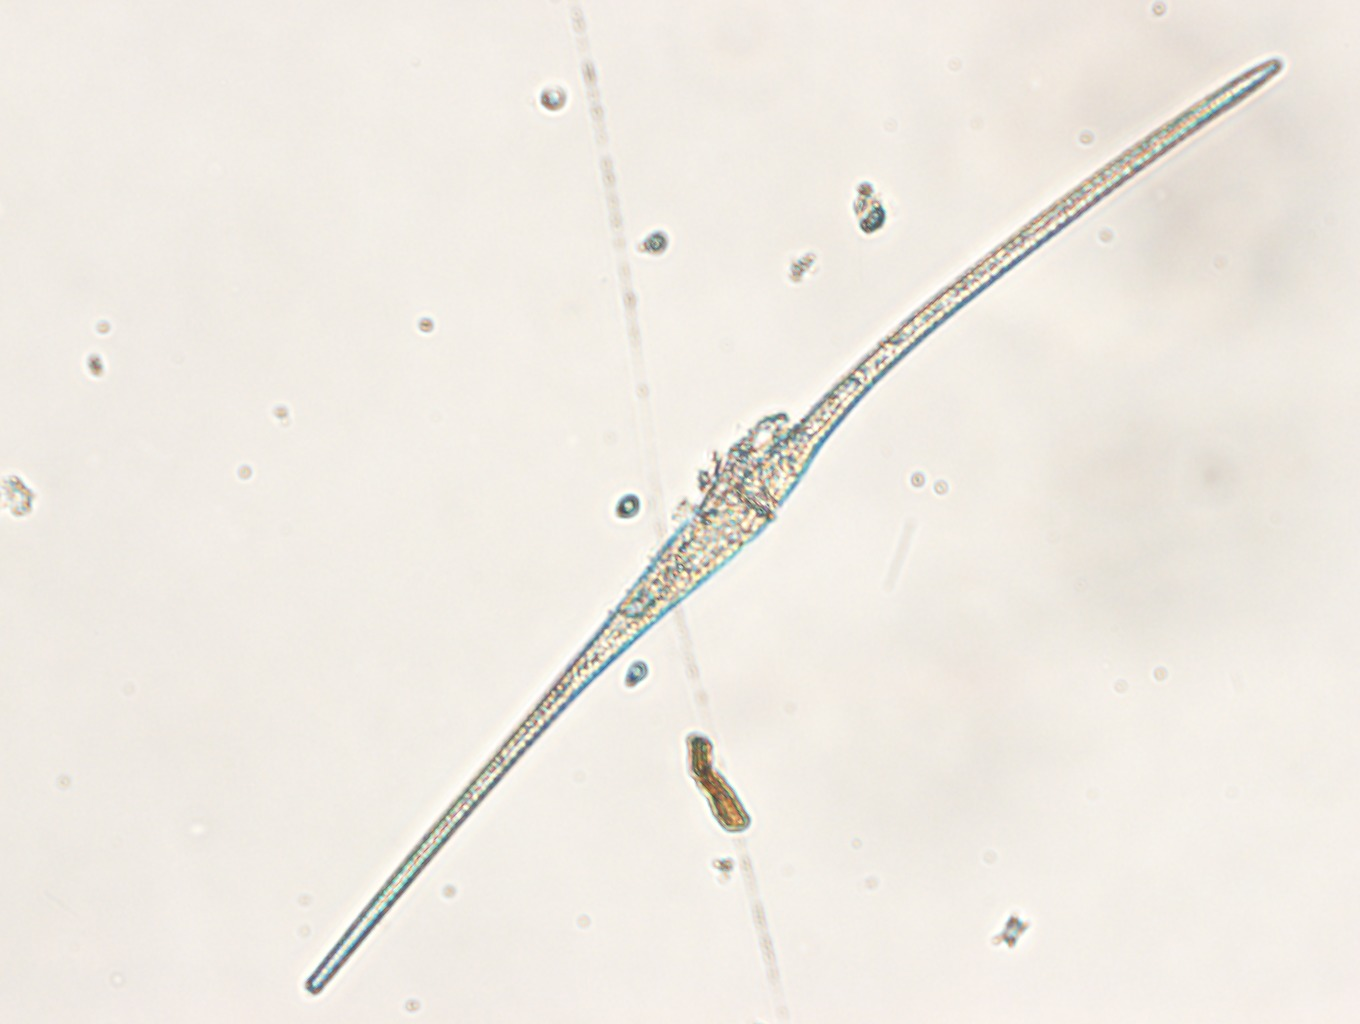ceratium fusus: (305, 55, 1286, 997)
